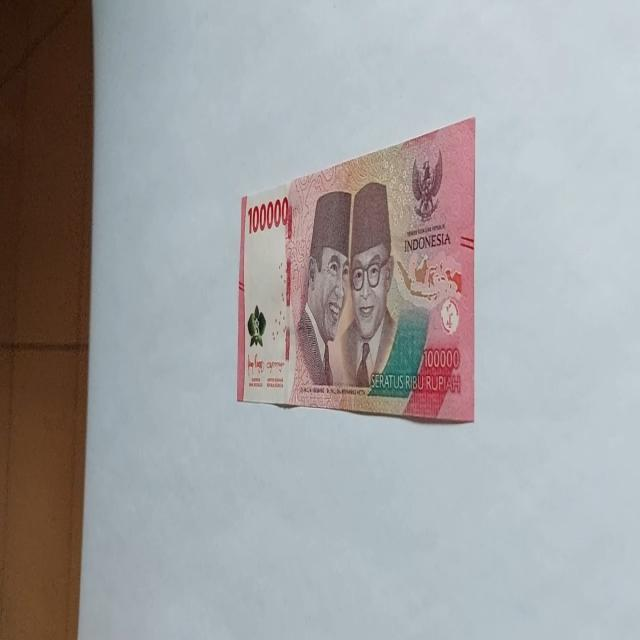seratus ribu rupiah: (236, 116, 476, 424)
